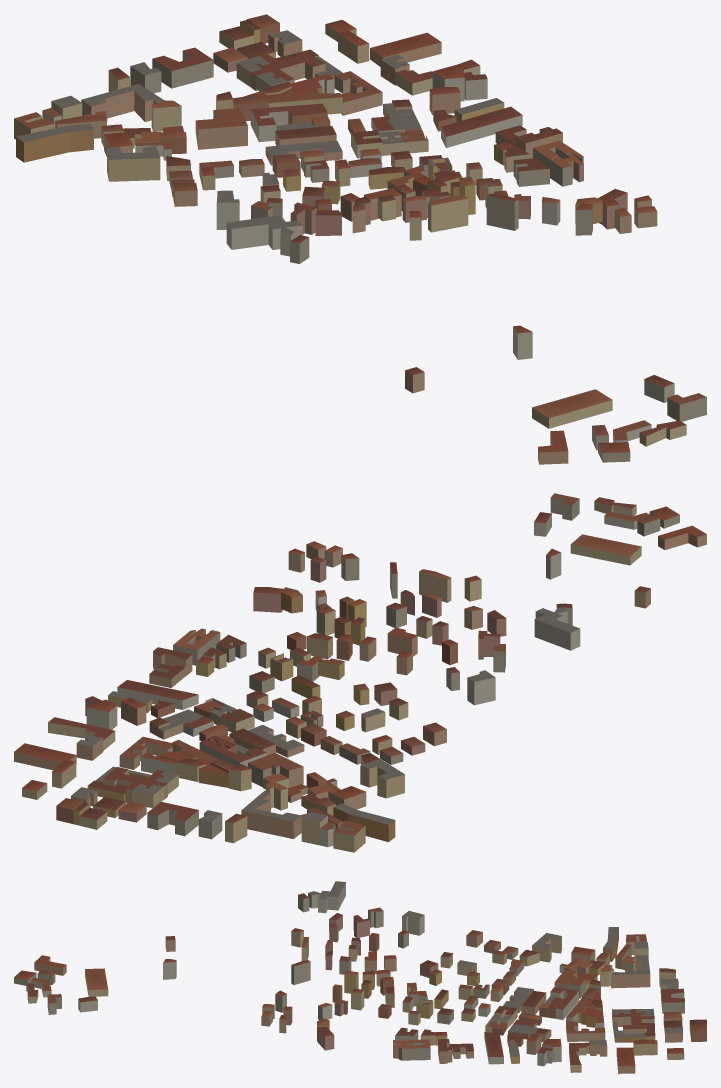
The model's file is SM_Fondale_Citta_Colle_03_LOD1.fbx.
3 views of the same model, one above another, from view 1: azimuth 30°, elevation 25°; view 2: azimuth 150°, elevation 25°; view 3: azimuth 270°, elevation 25° (orthographic). The views are drawn at different scales.
Visible parts, largest first — view 1: SM_Fondale_Citta_Colle_03_LOD1; view 2: SM_Fondale_Citta_Colle_03_LOD1; view 3: SM_Fondale_Citta_Colle_03_LOD1.
Boxes of the visible parts, bbox=[...] form: SM_Fondale_Citta_Colle_03_LOD1: bbox=[14, 14, 706, 464]; SM_Fondale_Citta_Colle_03_LOD1: bbox=[14, 493, 706, 852]; SM_Fondale_Citta_Colle_03_LOD1: bbox=[14, 881, 706, 1073].
Bounding box in the file's own units: 42155 × 91059 × 8795.
